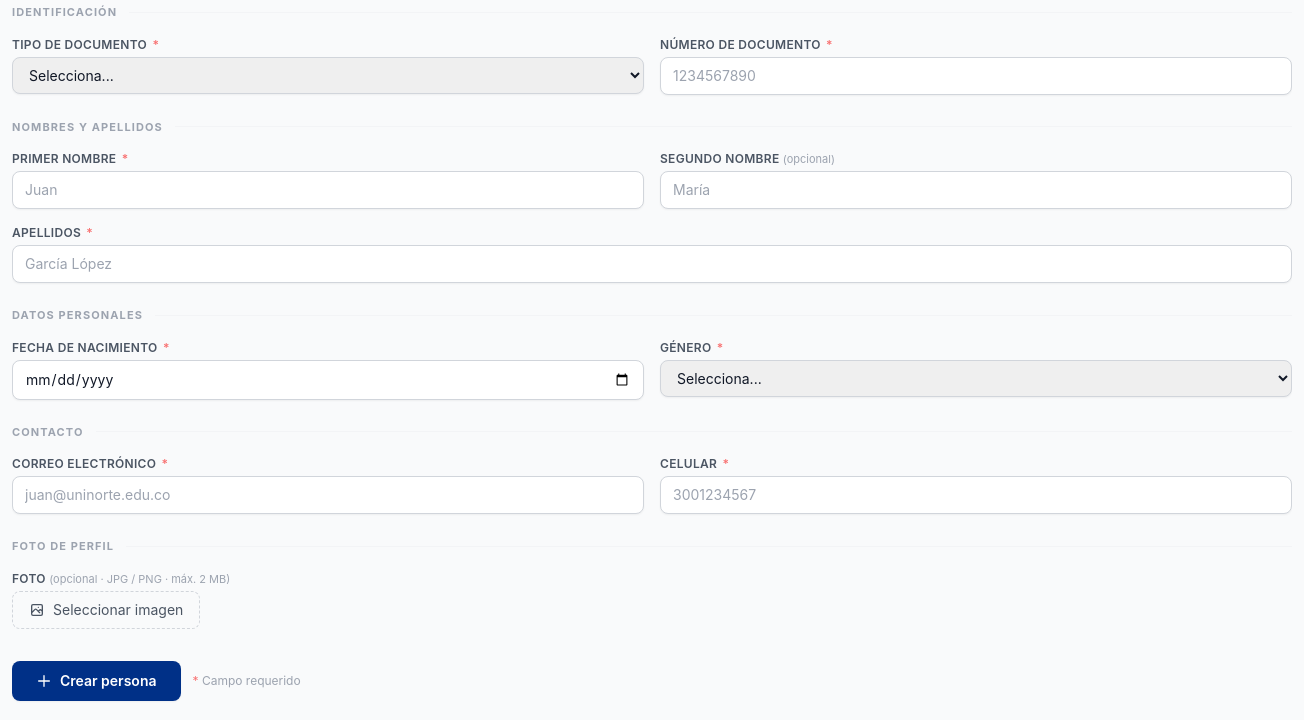
Scenario: spec 010 — PersonaForm › valida tipo_documento requerido
This screenshot has width=1304, height=720.
Click the button "Crear persona" at [96, 680], box [12, 660, 180, 700]
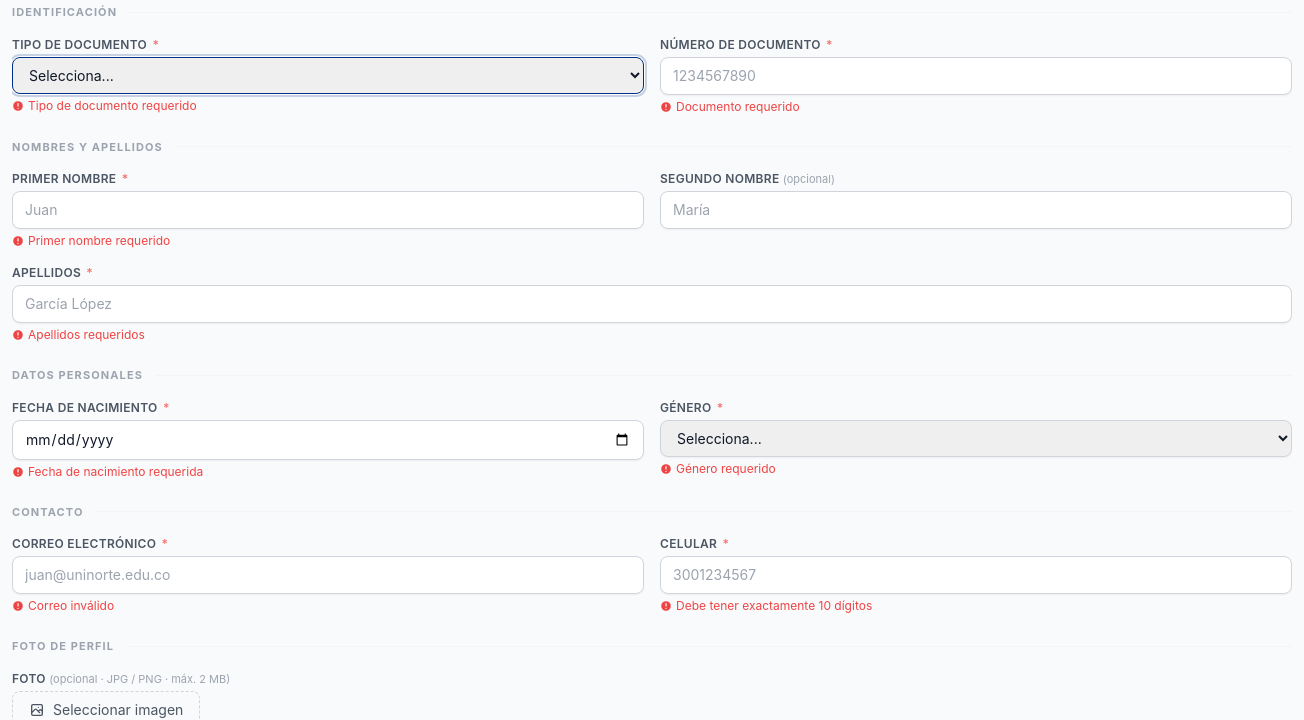
Expected: the text "Tipo de documento requerido" is shown, [12, 98, 197, 112]
